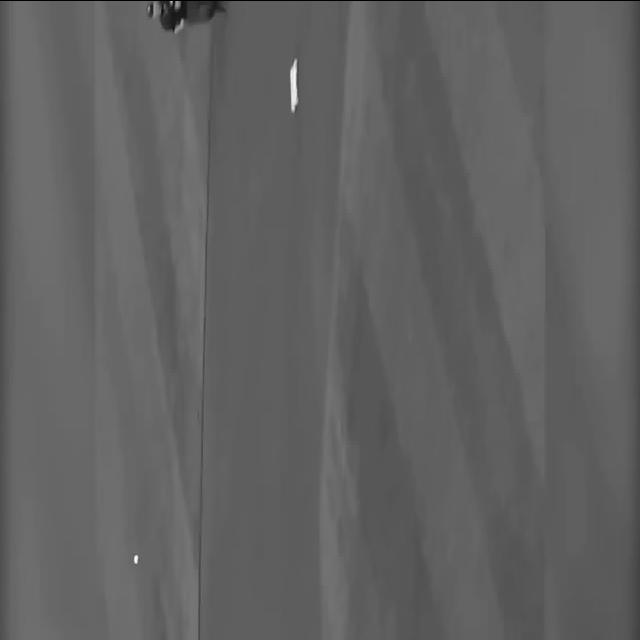base: (290, 58, 298, 112)
baseball: (133, 554, 139, 564)
